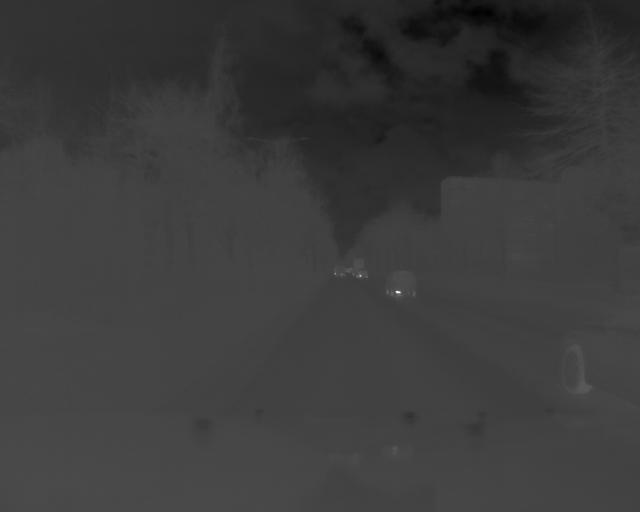car: (387, 266, 418, 300), (332, 263, 348, 281), (355, 267, 369, 280)
